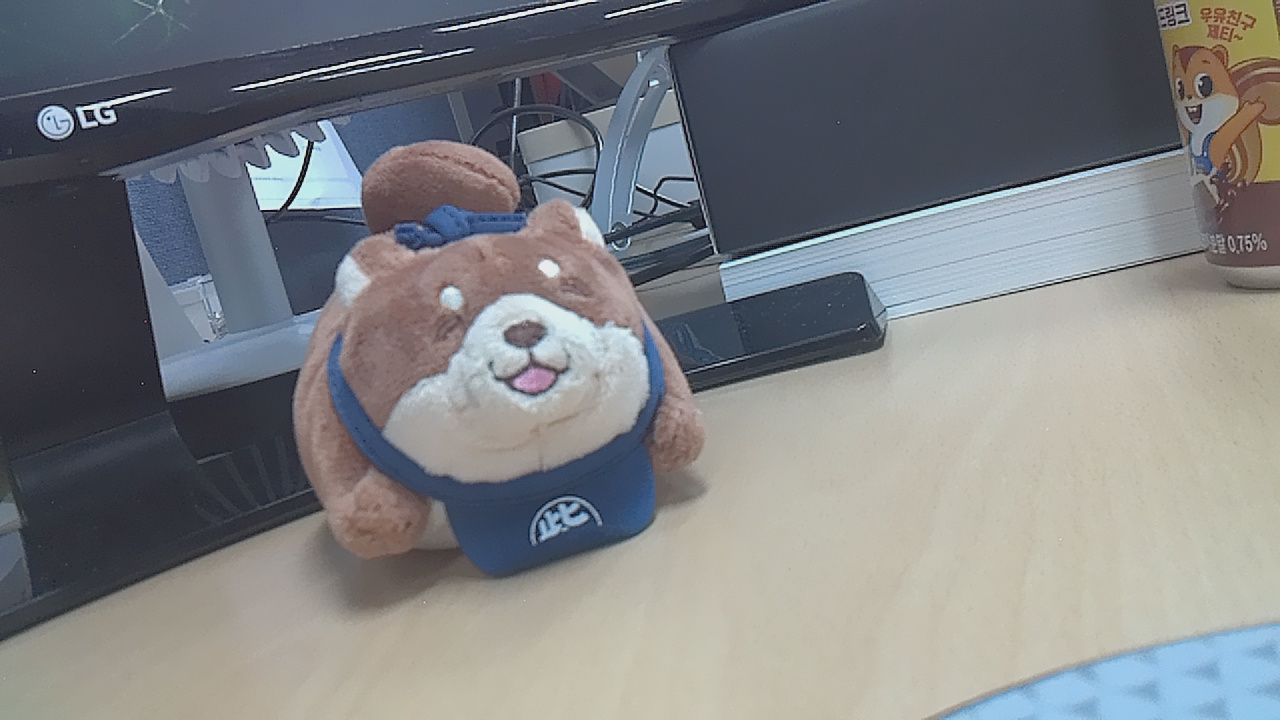cuteDog: (296, 144, 720, 600)
